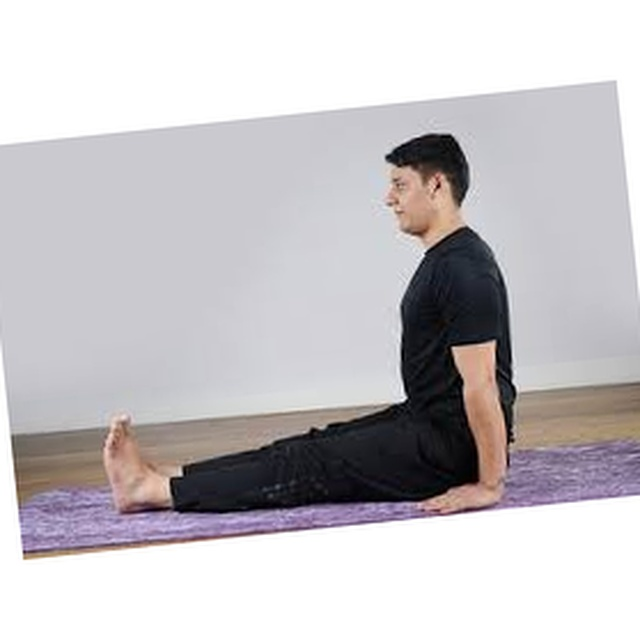Staff_Pose: (102, 132, 518, 517)
